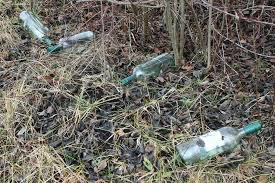bottle: (173, 116, 264, 163), (119, 52, 180, 92), (40, 23, 101, 62), (18, 8, 59, 55)
